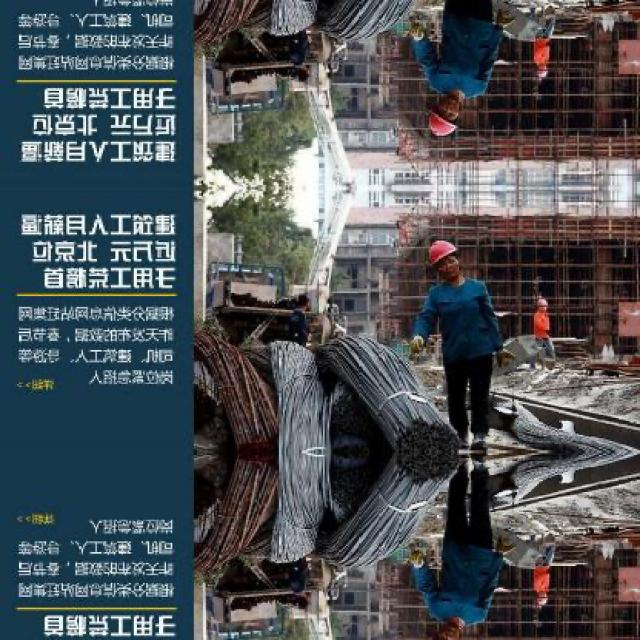helmet: (425, 95, 463, 138), (425, 238, 463, 280), (424, 623, 464, 638), (537, 63, 551, 79), (537, 298, 551, 313), (537, 591, 551, 606)
